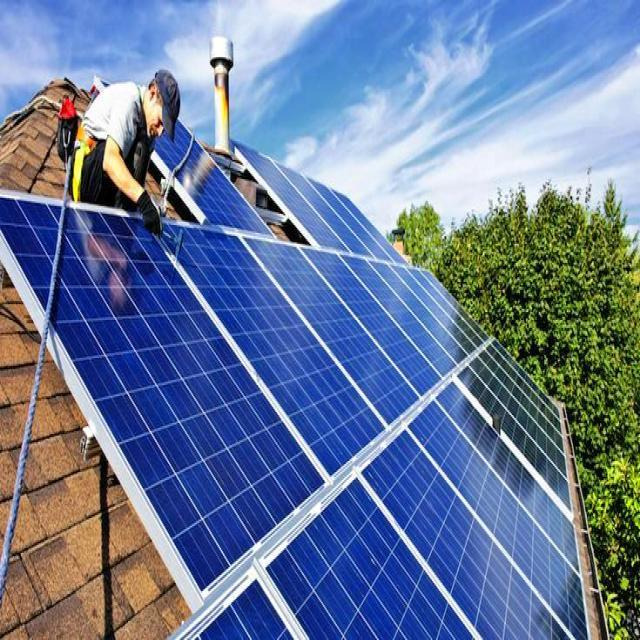no faulty: (0, 192, 328, 568), (159, 223, 388, 484), (362, 436, 572, 638), (244, 236, 424, 437), (299, 244, 444, 398), (336, 251, 458, 383)
